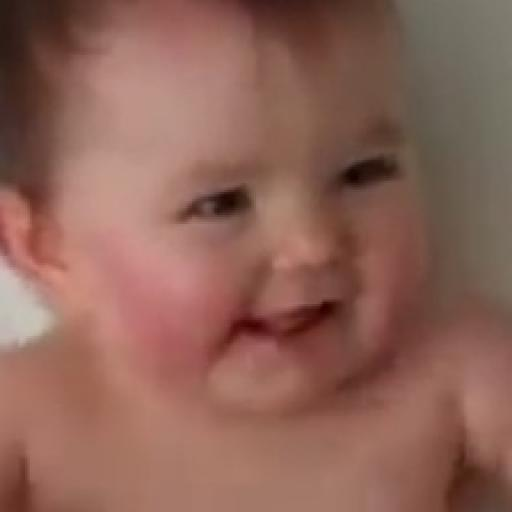Autism: (40, 18, 448, 434)
